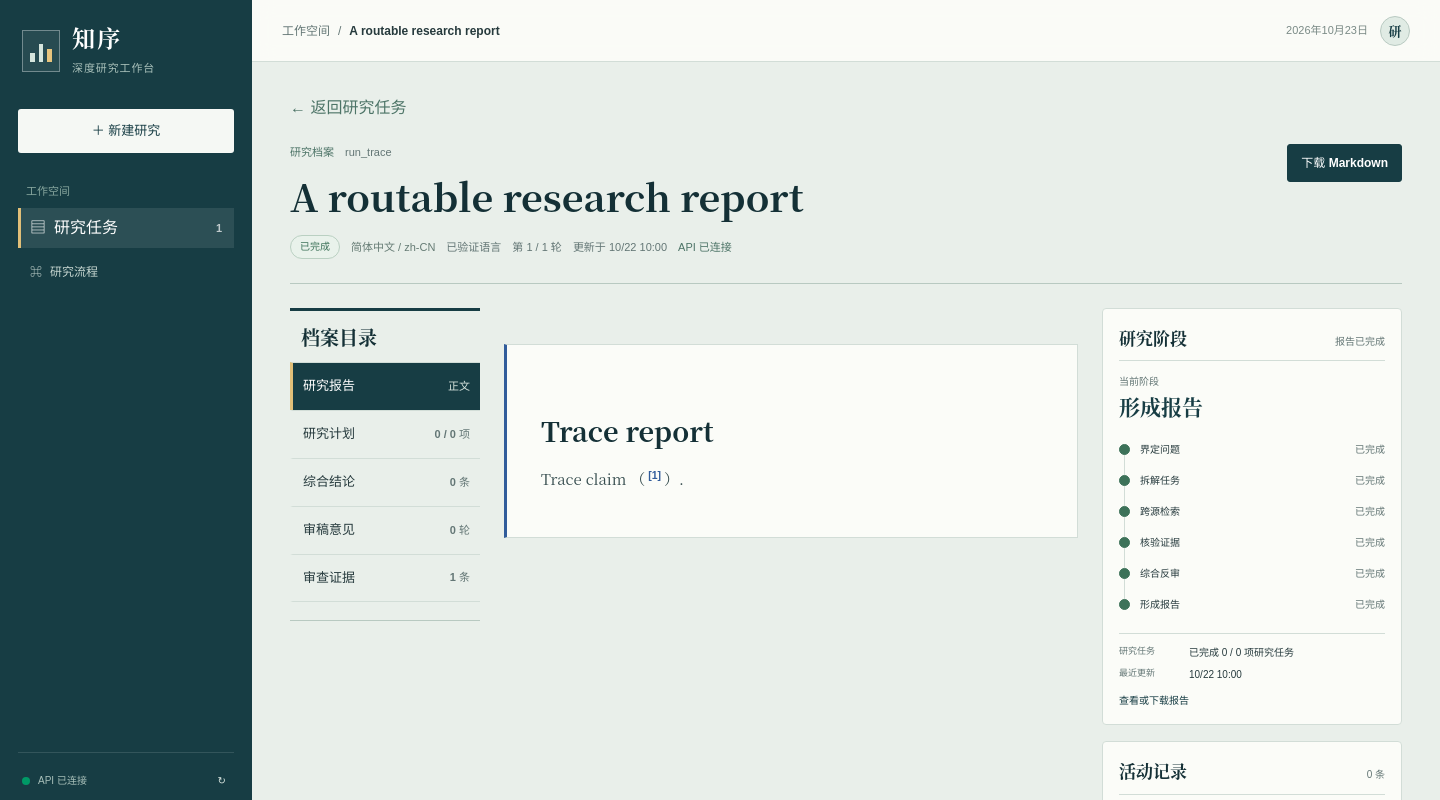
Test: research run navigation › opens the matching evidence and returns to the report citation
Click the button with class "citation-id". click: (655, 475)
box: [647,470,662,480]
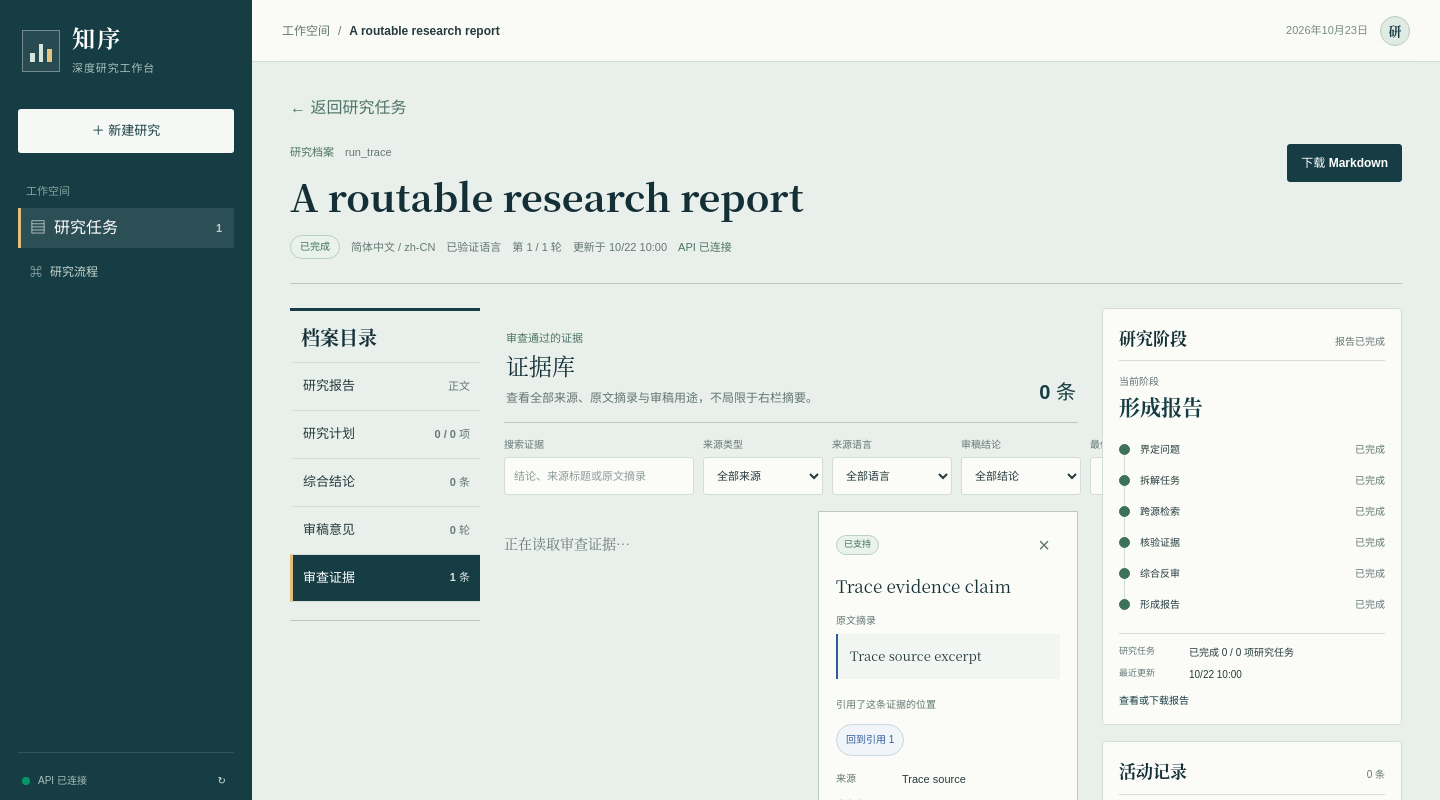
Result: the element named "证据详情" shows "Trace source excerpt" at [850,646,982,665]
Click the button "回到引用 1". click: (870, 740)
box: [836,724,904,756]
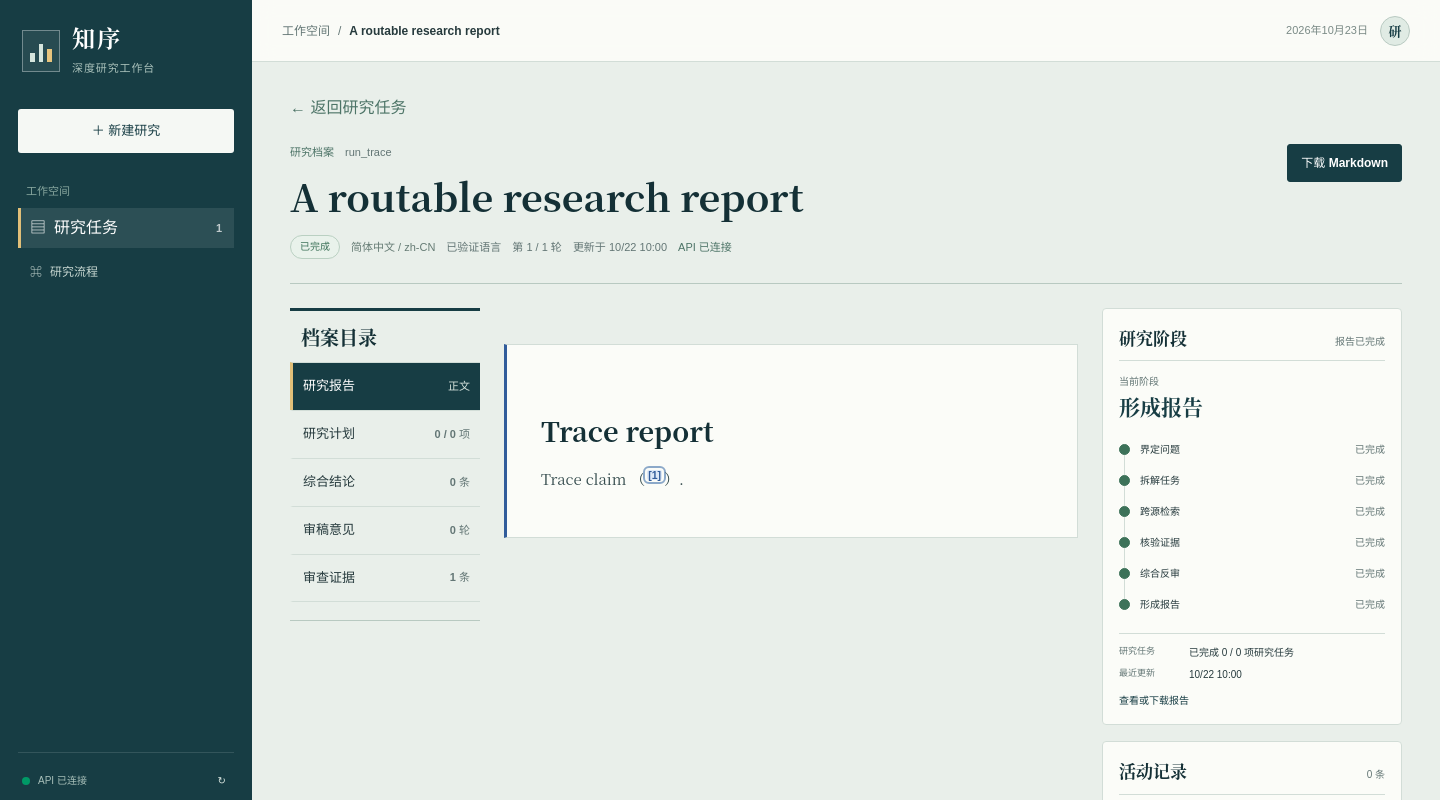
Result: the element showing "Trace report Trace claim （ 1 ）." is shown at [541,411,714,489]
